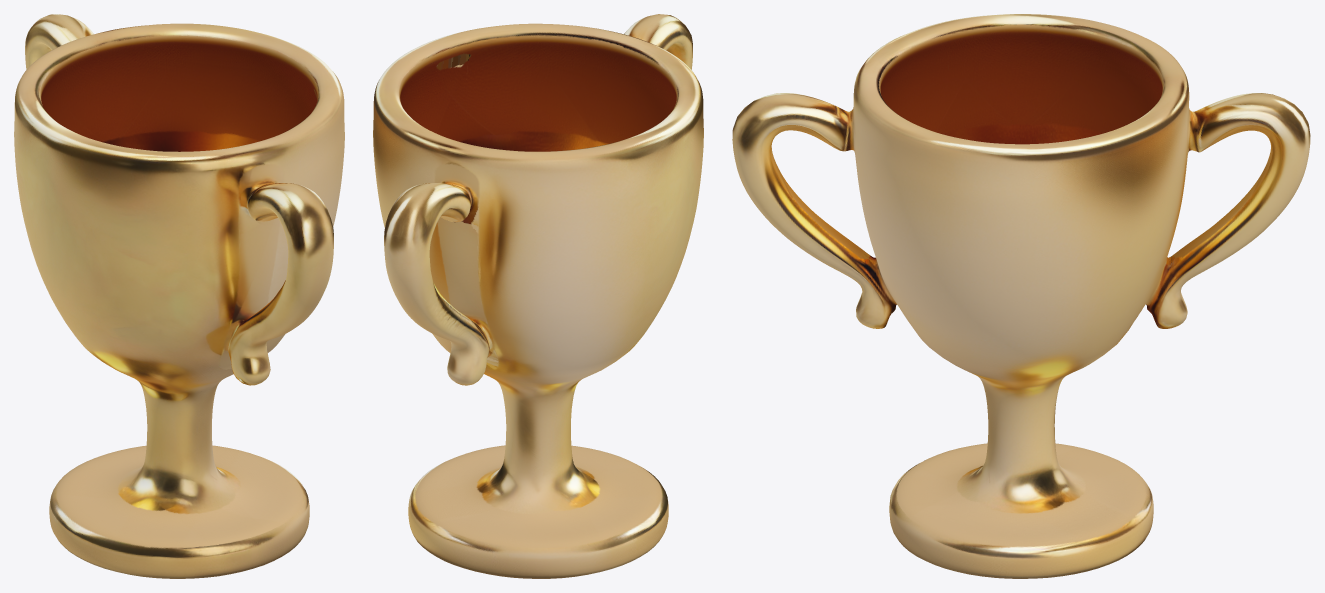
Rendered from base_basic_shaded.glb.
3 views of the same model, side by side, from view 1: azimuth 30°, elevation 25°; view 2: azimuth 150°, elevation 25°; view 3: azimuth 270°, elevation 25° (orthographic).
Visible parts, largest first — view 1: model; view 2: model; view 3: model.
Boxes of the visible parts, left/top/right/bottom form: model: left=14, top=14, right=344, bottom=578; model: left=373, top=14, right=703, bottom=578; model: left=732, top=14, right=1310, bottom=578.
Size of the model in its own units: 1.1 by 1.63 by 1.9.
1 material, 1 textured.
